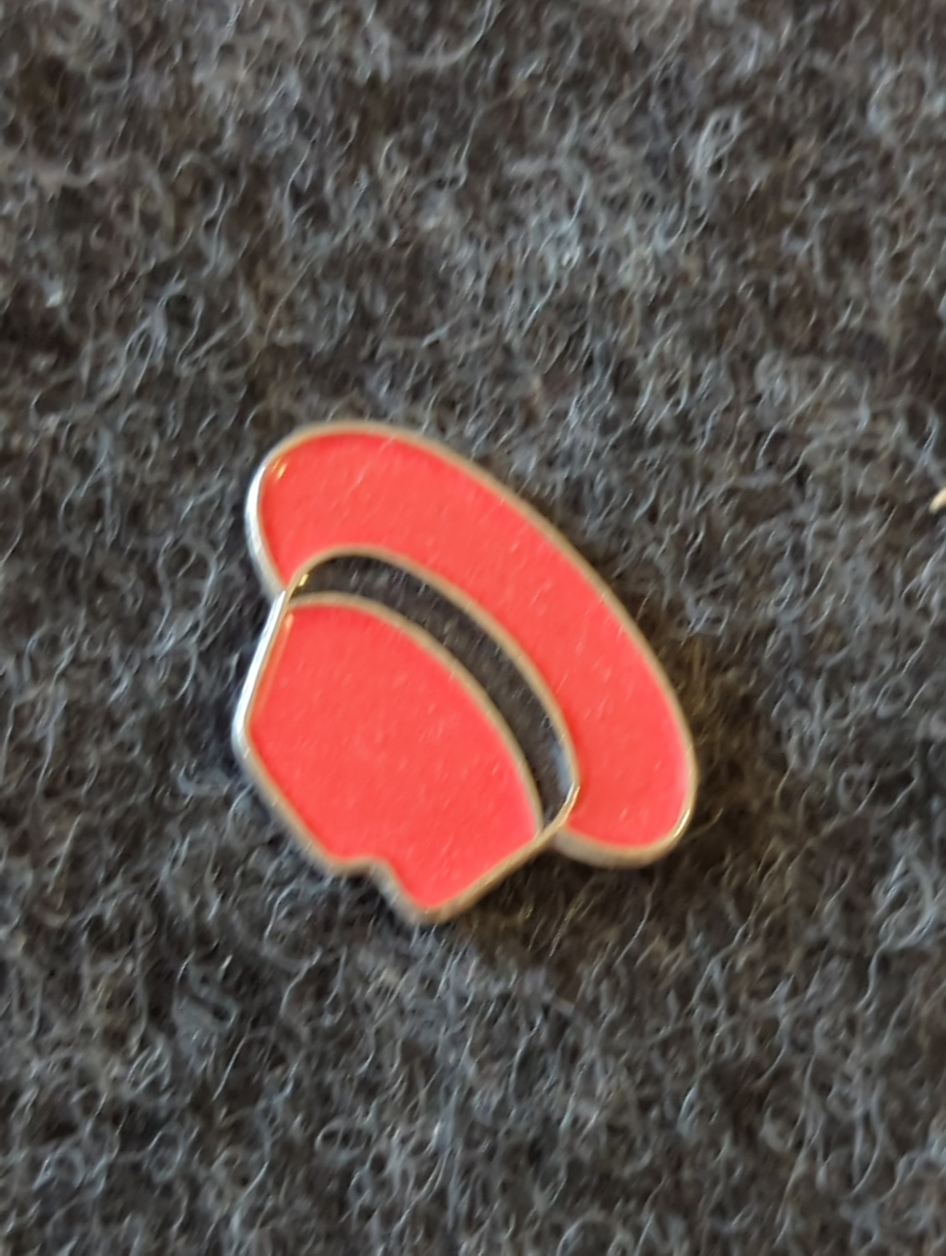Red-Hat: (86, 301, 822, 1016)
